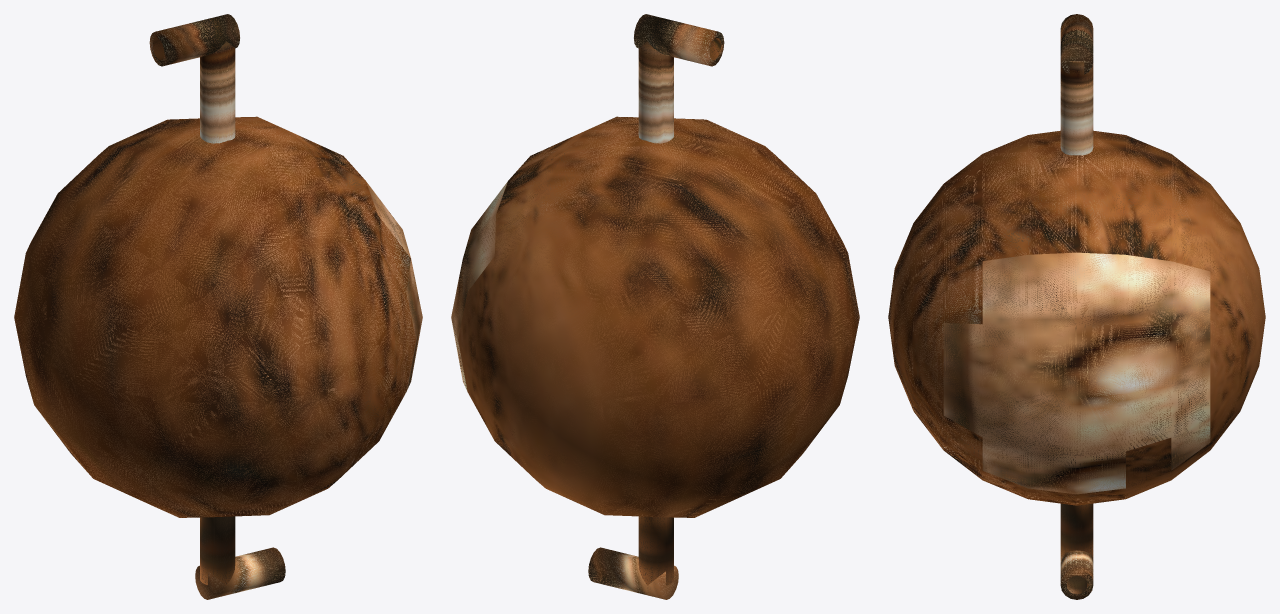
Rendered from Aeolipile_textura.obj.
3 renders of one model, left to right at view 1: azimuth 30°, elevation 25°; view 2: azimuth 150°, elevation 25°; view 3: azimuth 270°, elevation 25°, orthographic. The views are drawn at different scales.
Parts seen in each view (by area): view 1: Aeolipile_Material.003; view 2: Aeolipile_Material.003; view 3: Aeolipile_Material.003.
Boxes of the visible parts, x1,y1,x2,y2 form: Aeolipile_Material.003: (14, 14, 422, 599); Aeolipile_Material.003: (451, 14, 859, 599); Aeolipile_Material.003: (888, 14, 1265, 599).
Bounding box in the file's own units: 0.8132 × 1.27 × 0.8132.
